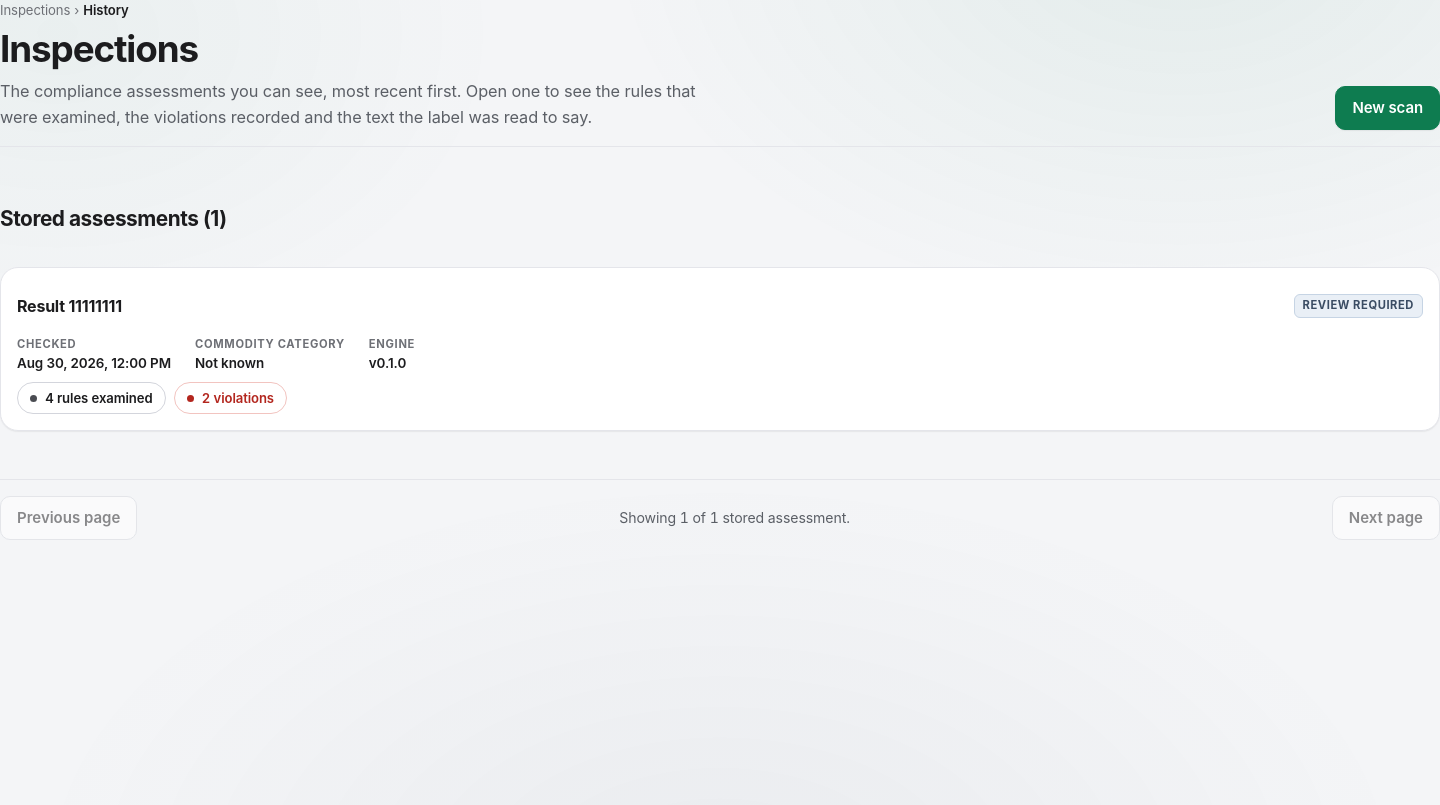
Test: navigating to a stored result › opens the stored result when a row is clicked
What coordinates should you click on to do the following:
click the link "Result 11111111"
I would click on:
 (69, 306)
Its box is x1=17 y1=296 x2=122 y2=316.
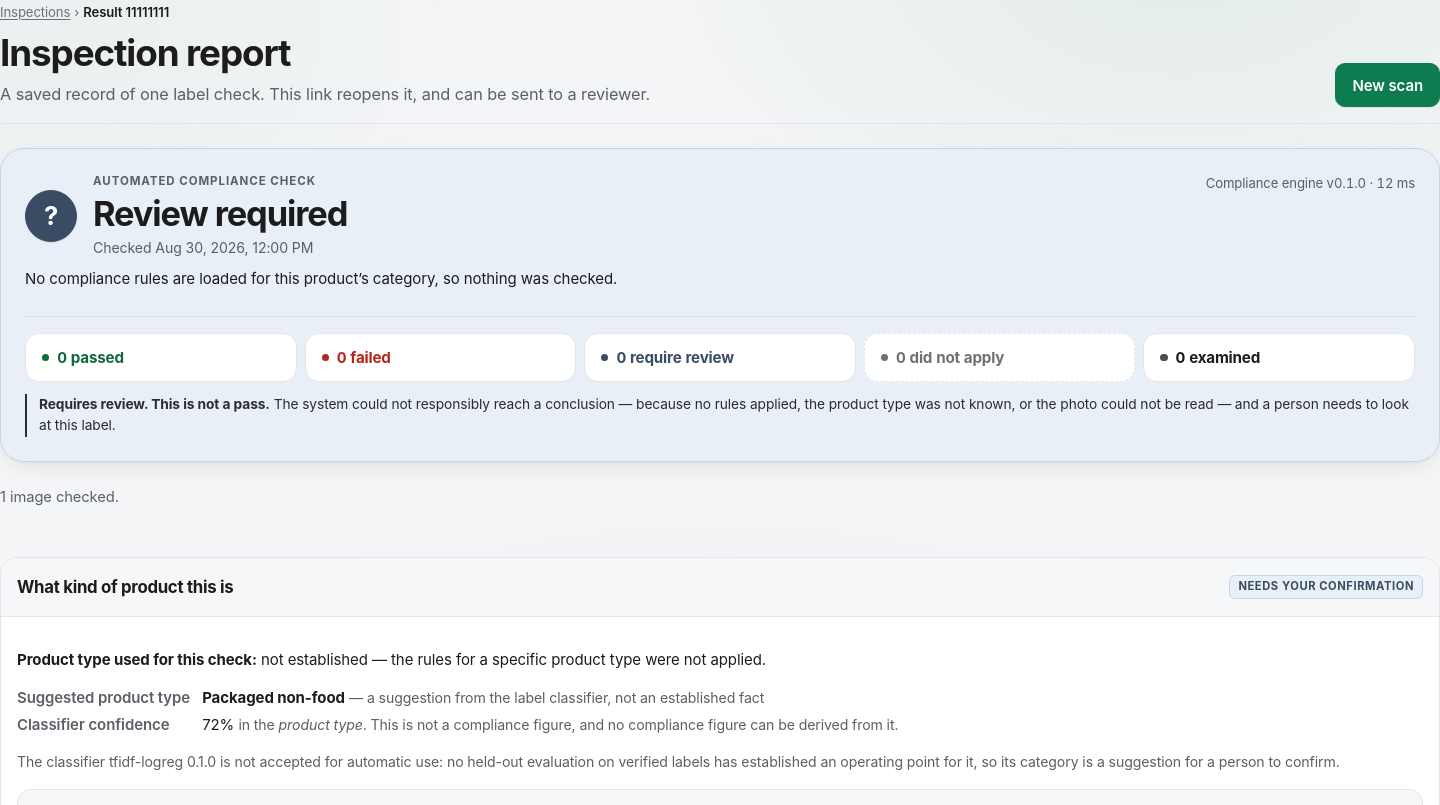
Check: the heading "Inspection report" is shown, box x1=0 y1=30 x2=290 y2=75
